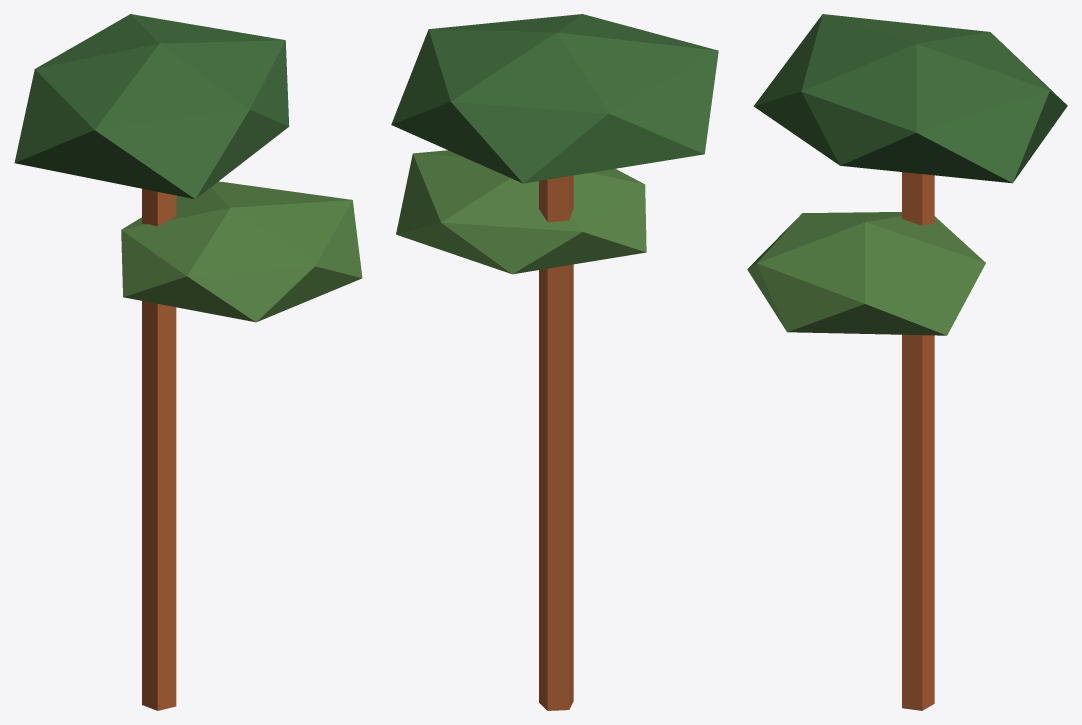
The model's file is tall_fjarran_2.glb.
3 views of the same model, side by side, from view 1: azimuth 30°, elevation 25°; view 2: azimuth 150°, elevation 25°; view 3: azimuth 270°, elevation 25° (orthographic).
Parts seen in each view (by area): view 1: tall_fjarran_2; view 2: tall_fjarran_2; view 3: tall_fjarran_2.
Part boxes in pixels (bbox=[...]): tall_fjarran_2: bbox=[14, 14, 362, 710]; tall_fjarran_2: bbox=[391, 14, 718, 710]; tall_fjarran_2: bbox=[747, 14, 1067, 710].
Bounding box in the file's own units: 4.97 × 10.03 × 4.42.
